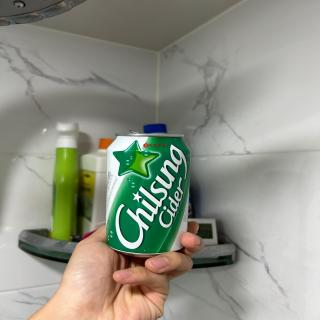cocacola: (106, 130, 192, 258)
